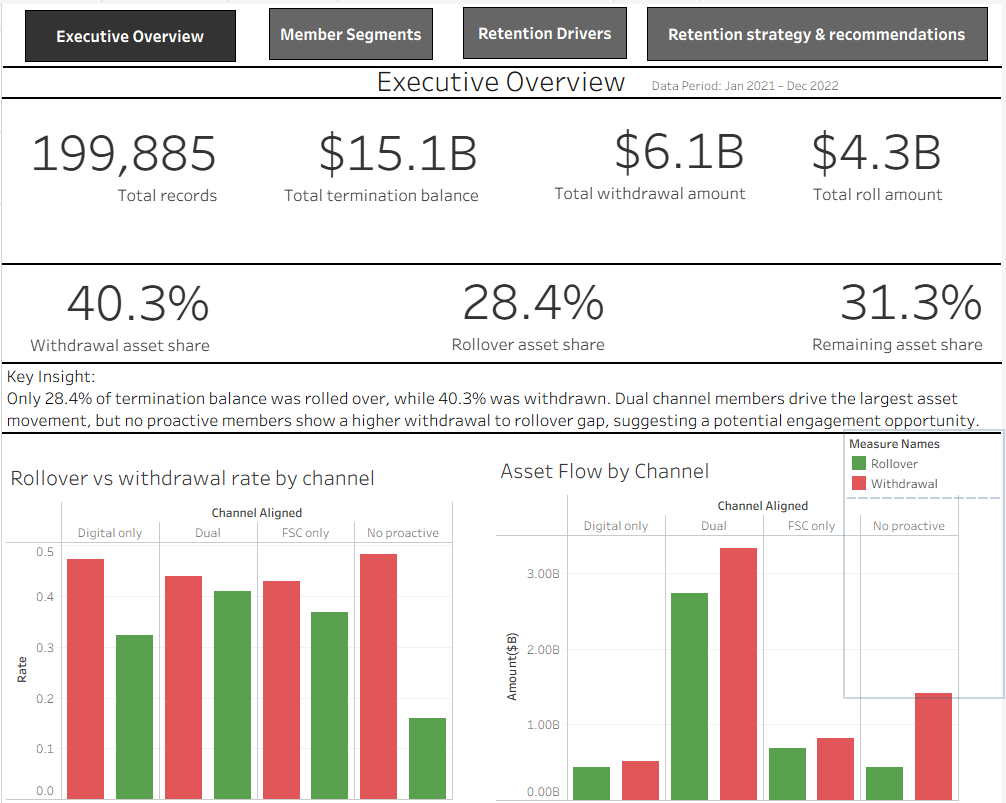

The dashboard page shown, as its layout file describes it:
{"tool":"tableau","page":{"name":"Executive Overview","canvas":[1000,800],"ordinal":0},"visuals":[{"type":"dashboard-object","box":[461,3,164,52]},{"type":"dashboard-object","box":[645,3,341,54]},{"type":"dashboard-object","box":[267,4,164,52]},{"type":"dashboard-object","box":[23,6,211,52]},{"type":"text","box":[10,56,978,40]},{"type":"text","box":[647,60,201,42]},{"type":"blank","box":[1,62,999,2]},{"type":"blank","box":[0,93,999,2]},{"type":"worksheet","title":"Total Withdrawal Amount","mark":"Automatic","box":[548,112,251,91]},{"type":"worksheet","title":"total termination balance","mark":"Automatic","box":[261,114,237,107]},{"type":"blank","box":[0,259,999,2]},{"type":"worksheet","title":"Rollover Rate","mark":"Automatic","box":[427,263,206,96]},{"type":"worksheet","title":"Withdrawal Rate","mark":"Automatic","box":[12,264,235,103]},{"type":"text","box":[2,299,990,192]},{"type":"blank","box":[0,358,1000,2]},{"type":"legend","title":"Asset Flow by Channel","param":"[federated.19ewrkh1tpp5ff1epl4o61ambgtl].[:Measure Names]","box":[843,427,160,66]},{"type":"blank","box":[0,428,999,2]},{"type":"worksheet","title":"Asset Flow by Channel","mark":"Bar","cols":["channel_aligned"],"box":[494,448,463,349]},{"type":"worksheet","title":"Rollover vs withdrawal rate by channel","mark":"Bar","cols":["channel_aligned"],"box":[4,455,447,341]}]}

Visuals, with their boxes in screenshot pixels (x1, y1, x2, y2), scaled from the page's 1000x800 canvas onto the 1006x803 screenshot:
dashboard-object: box(464, 3, 629, 55)
dashboard-object: box(649, 3, 992, 57)
dashboard-object: box(269, 4, 434, 56)
dashboard-object: box(23, 6, 235, 58)
text: box(10, 56, 994, 96)
text: box(651, 60, 853, 102)
blank: box(1, 62, 1005, 64)
blank: box(0, 93, 1005, 95)
"Total Withdrawal Amount" worksheet: box(551, 112, 804, 204)
"total termination balance" worksheet: box(263, 114, 501, 222)
blank: box(0, 260, 1005, 262)
"Rollover Rate" worksheet: box(430, 264, 637, 360)
"Withdrawal Rate" worksheet: box(12, 265, 248, 368)
text: box(2, 300, 998, 493)
blank: box(0, 359, 1005, 361)
"Asset Flow by Channel" legend: box(848, 429, 1005, 495)
blank: box(0, 430, 1005, 432)
"Asset Flow by Channel" worksheet (Bar marks): box(497, 450, 963, 800)
"Rollover vs withdrawal rate by channel" worksheet (Bar marks): box(4, 457, 454, 799)
